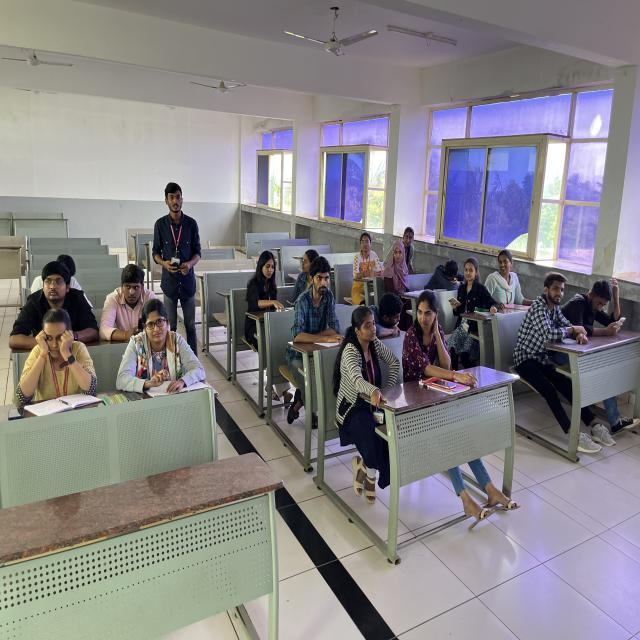Using Phone: (96, 254, 154, 346), (573, 270, 638, 342), (448, 243, 492, 328)
